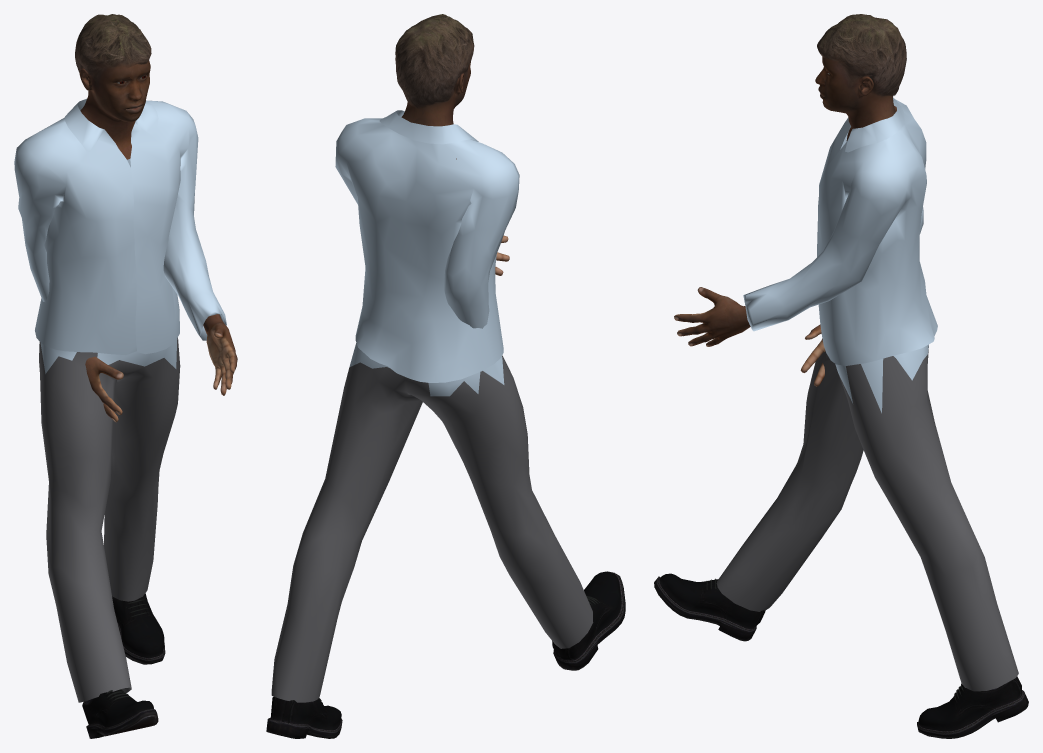
The model's file is street_man_shirt_walk.glb.
3 renders of one model, left to right at view 1: azimuth 30°, elevation 25°; view 2: azimuth 150°, elevation 25°; view 3: azimuth 270°, elevation 25°, orthographic. The views are drawn at different scales.
Visible parts, largest first — view 1: man_shirt_walk; view 2: man_shirt_walk; view 3: man_shirt_walk.
Part boxes in pixels (x1,y1,x2,y2): man_shirt_walk: (14, 14, 237, 738); man_shirt_walk: (266, 14, 625, 738); man_shirt_walk: (654, 14, 1028, 738).
Bounding box in the file's own units: 0.5376 × 1.85 × 0.9269.
9 materials, 7 textured.
